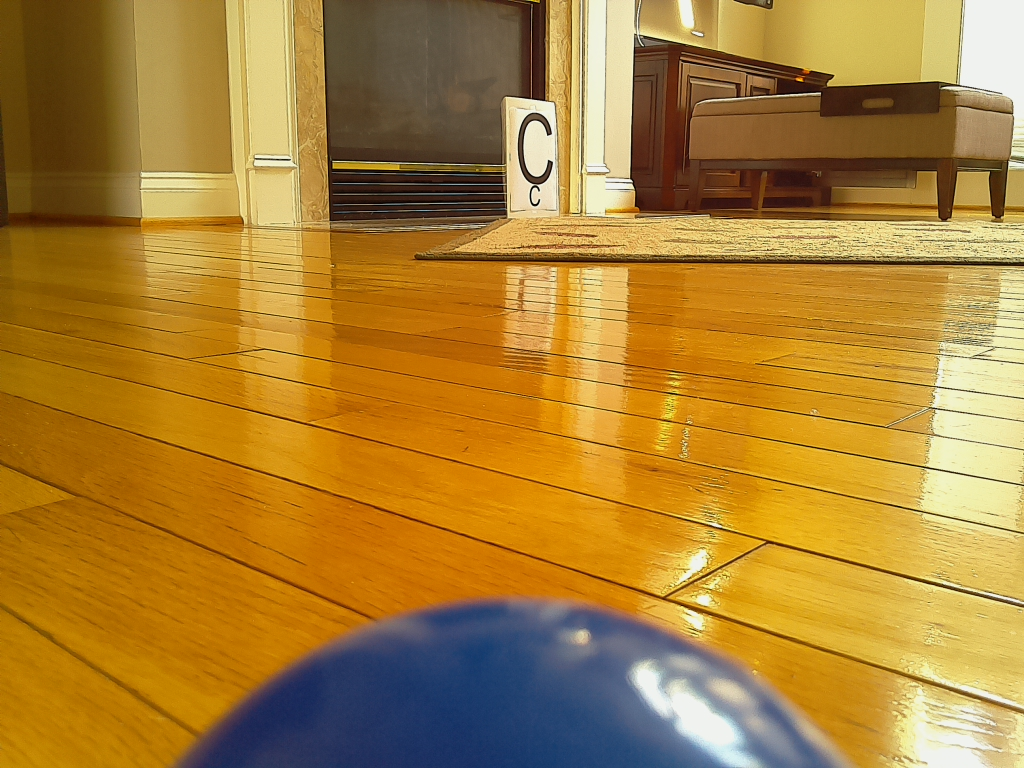letter: (517, 112, 552, 185)
